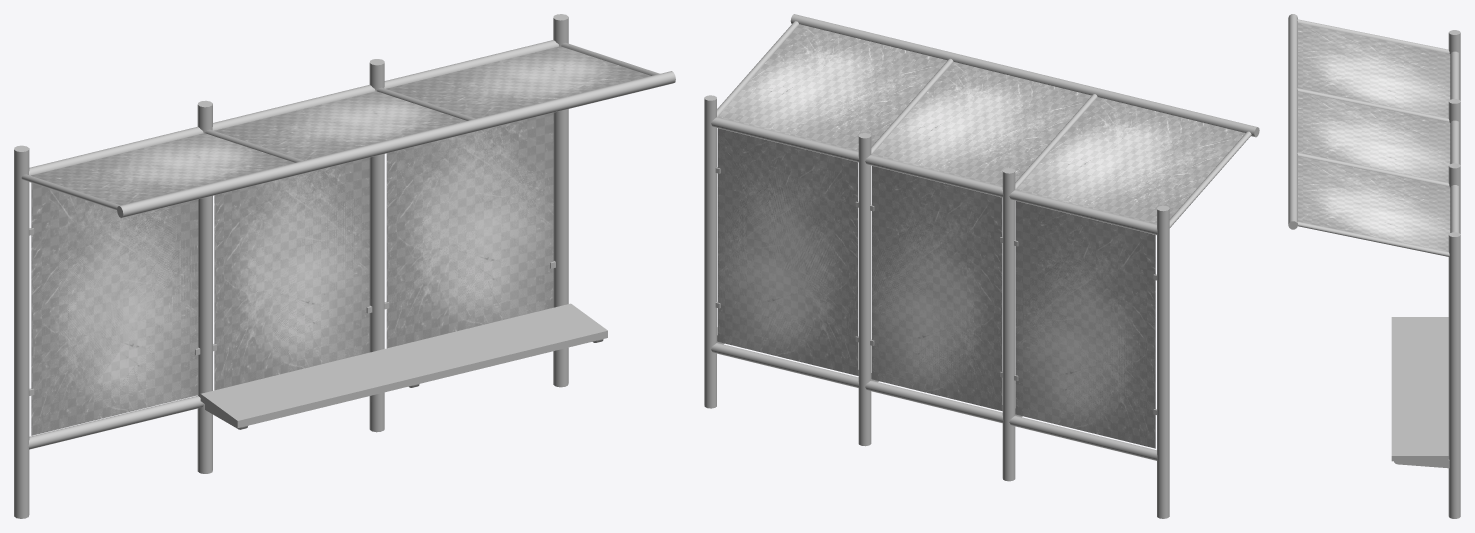
File: BusStop-01.fbx
3 views of the same model, side by side, from view 1: azimuth 30°, elevation 25°; view 2: azimuth 150°, elevation 25°; view 3: azimuth 270°, elevation 25° (orthographic). The views are drawn at different scales.
Visible parts, largest first — view 1: BusStop-01; view 2: BusStop-01; view 3: BusStop-01.
Part boxes in pixels (x1=…): BusStop-01: x1=14, y1=14, x2=675, y2=518; BusStop-01: x1=704, y1=14, x2=1259, y2=518; BusStop-01: x1=1288, y1=14, x2=1460, y2=518.
Size of what is drawn, in the model's own units: 4.1 by 2.75 by 1.44.
